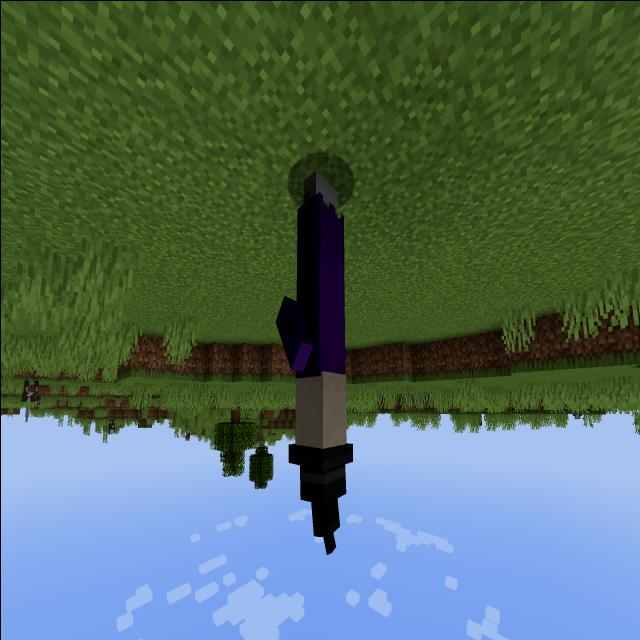Witch: (267, 146, 357, 562)
